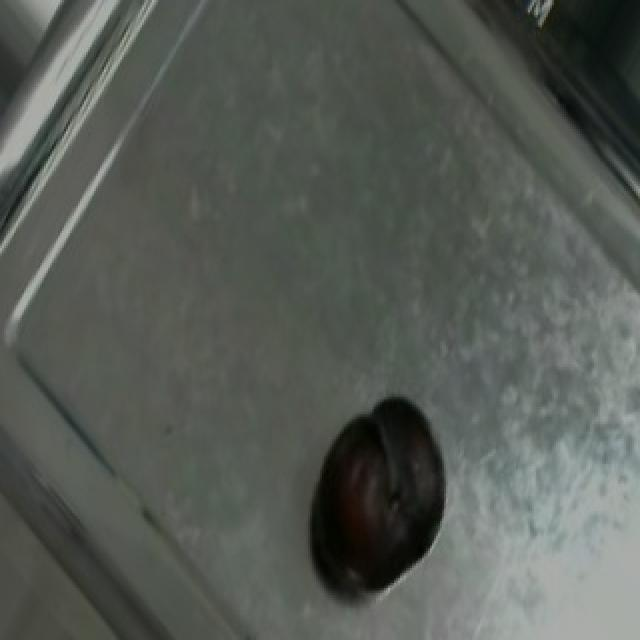Fruit: (298, 379, 462, 603)
